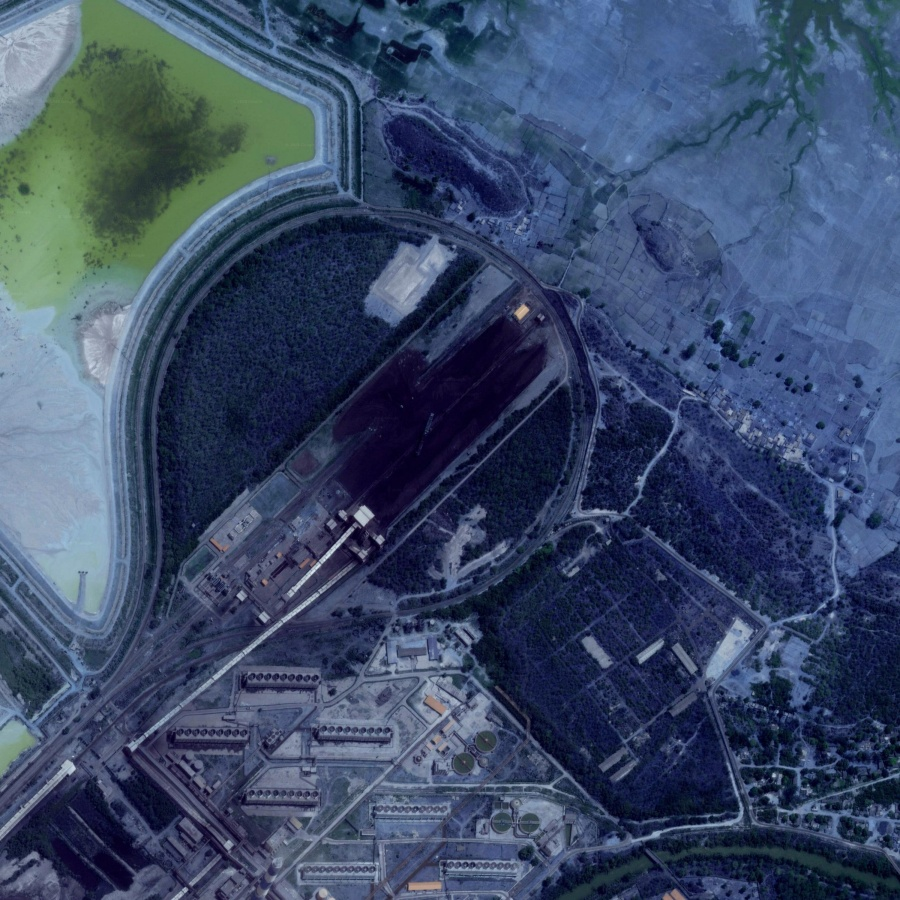PowerPlant: (286, 284, 565, 566)
